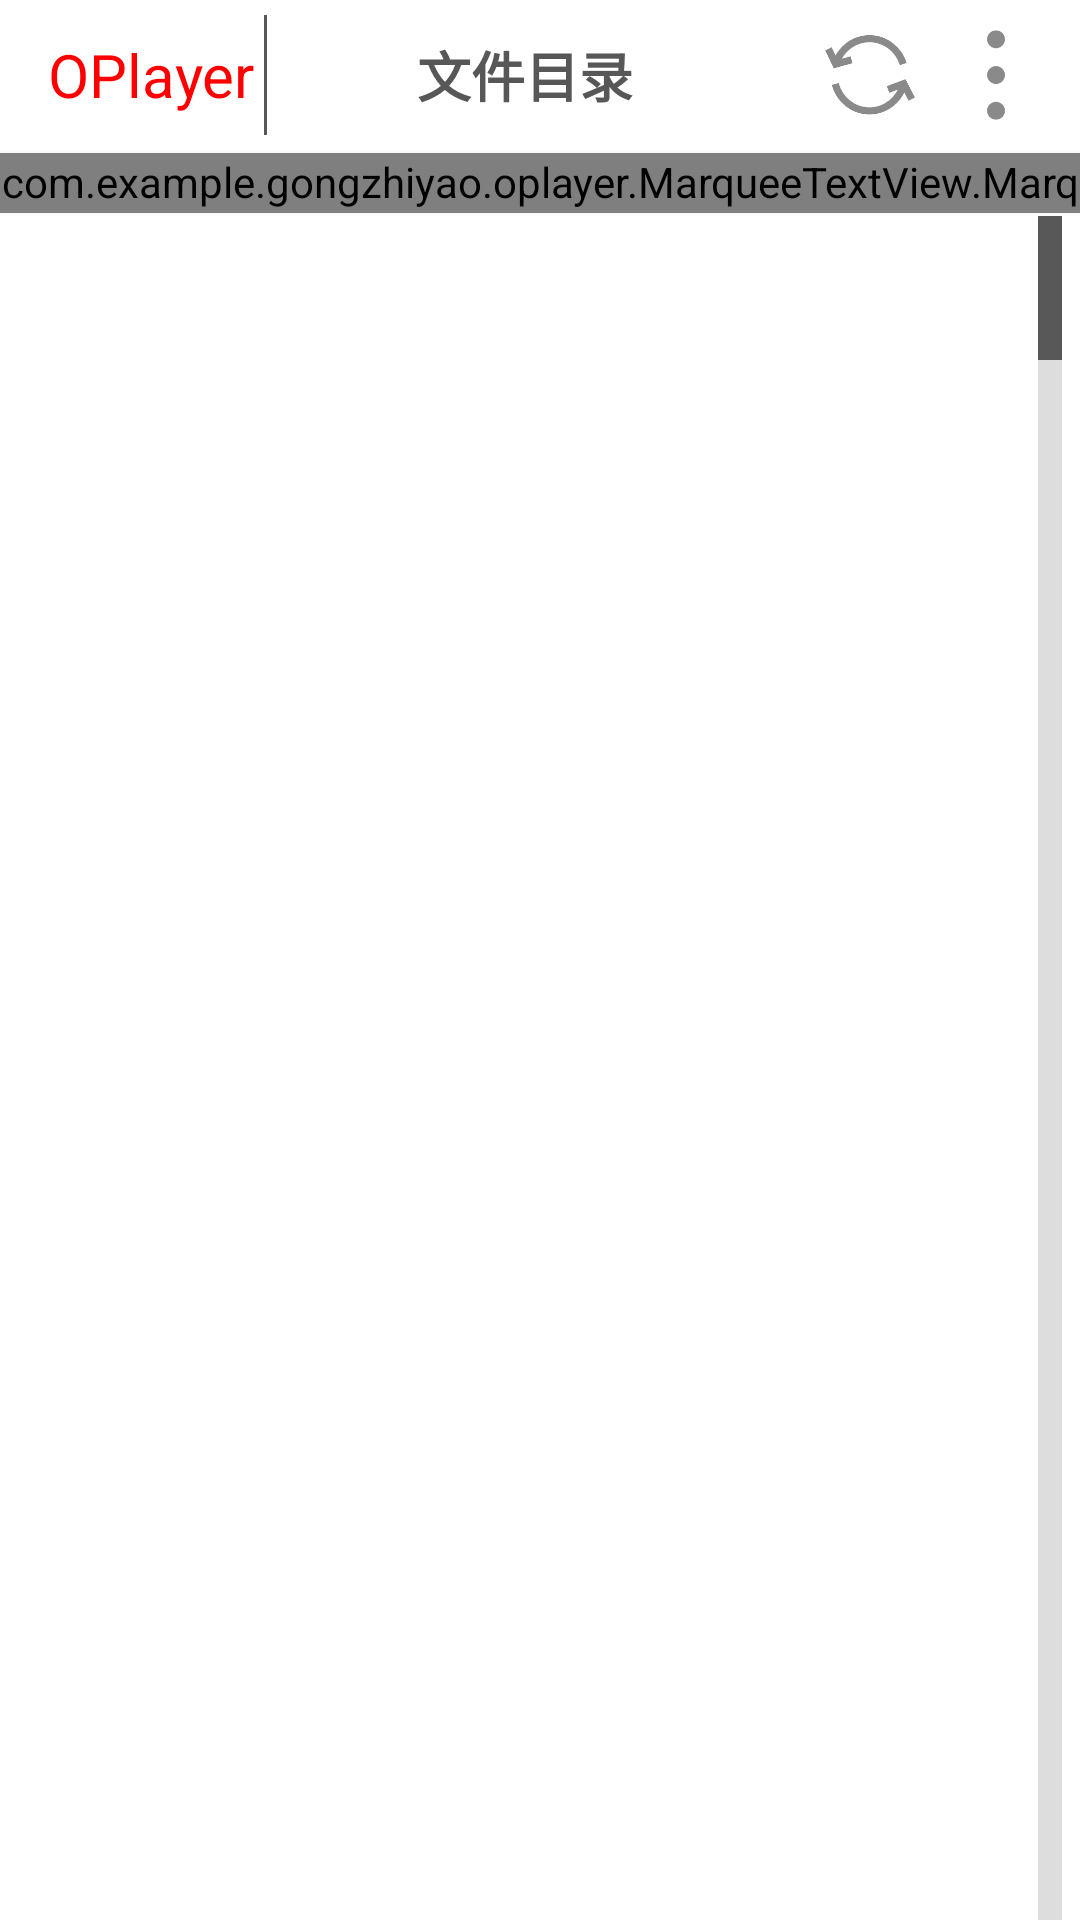

Icon bounding boxes for this 1080 × 1920 phone screenshot, format bbox(x1, y1, x2, y2):
more local: bbox(987, 30, 1005, 120)
refresh local: bbox(825, 35, 915, 115)
